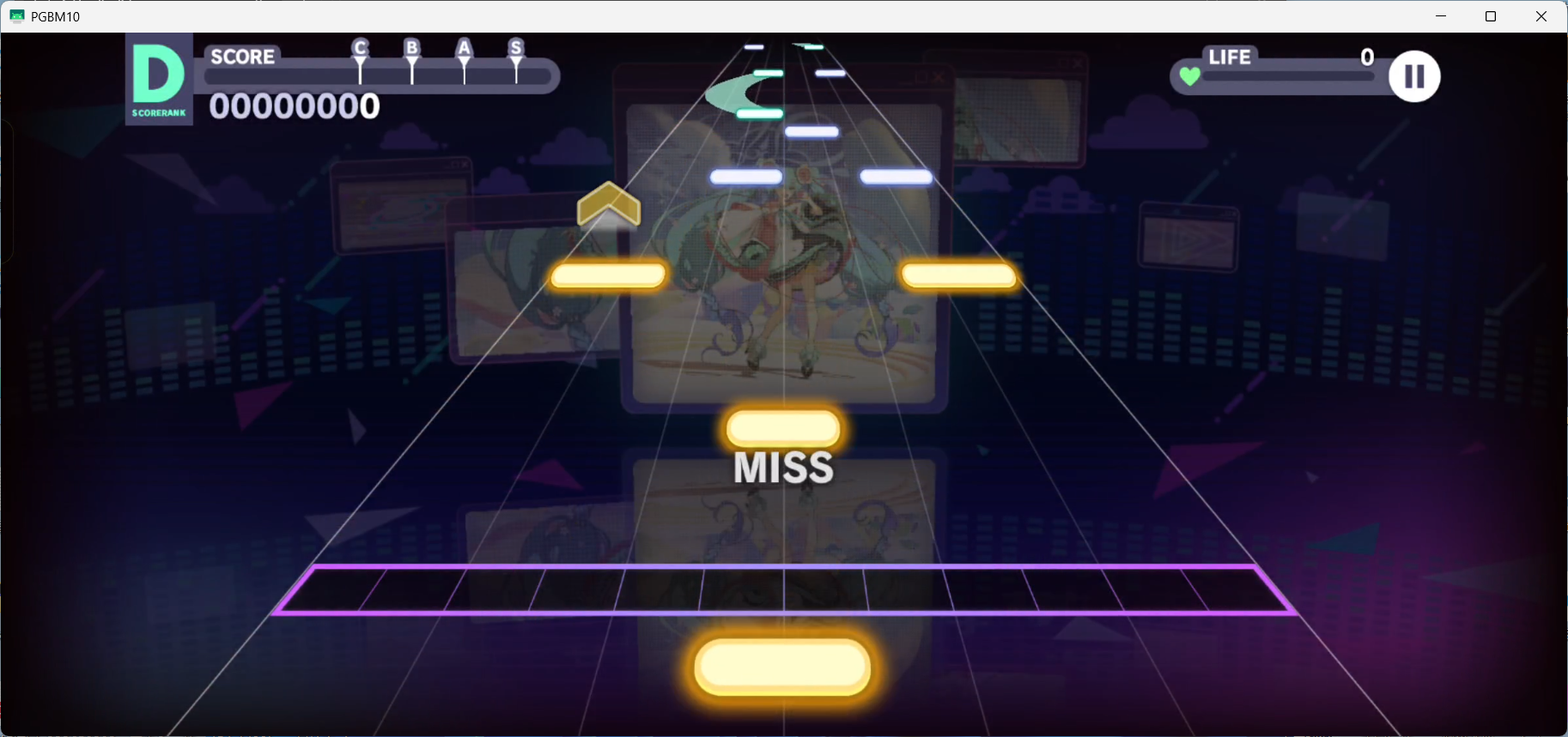flick: (576, 179, 641, 234)
hold: (704, 78, 769, 108)
tap: (694, 638, 871, 697), (726, 410, 840, 448), (901, 262, 1018, 290), (551, 263, 665, 289), (710, 169, 783, 185), (860, 169, 933, 184), (784, 125, 839, 137), (736, 108, 783, 119), (753, 68, 783, 76), (815, 69, 845, 76), (744, 44, 765, 50), (805, 43, 825, 49)
